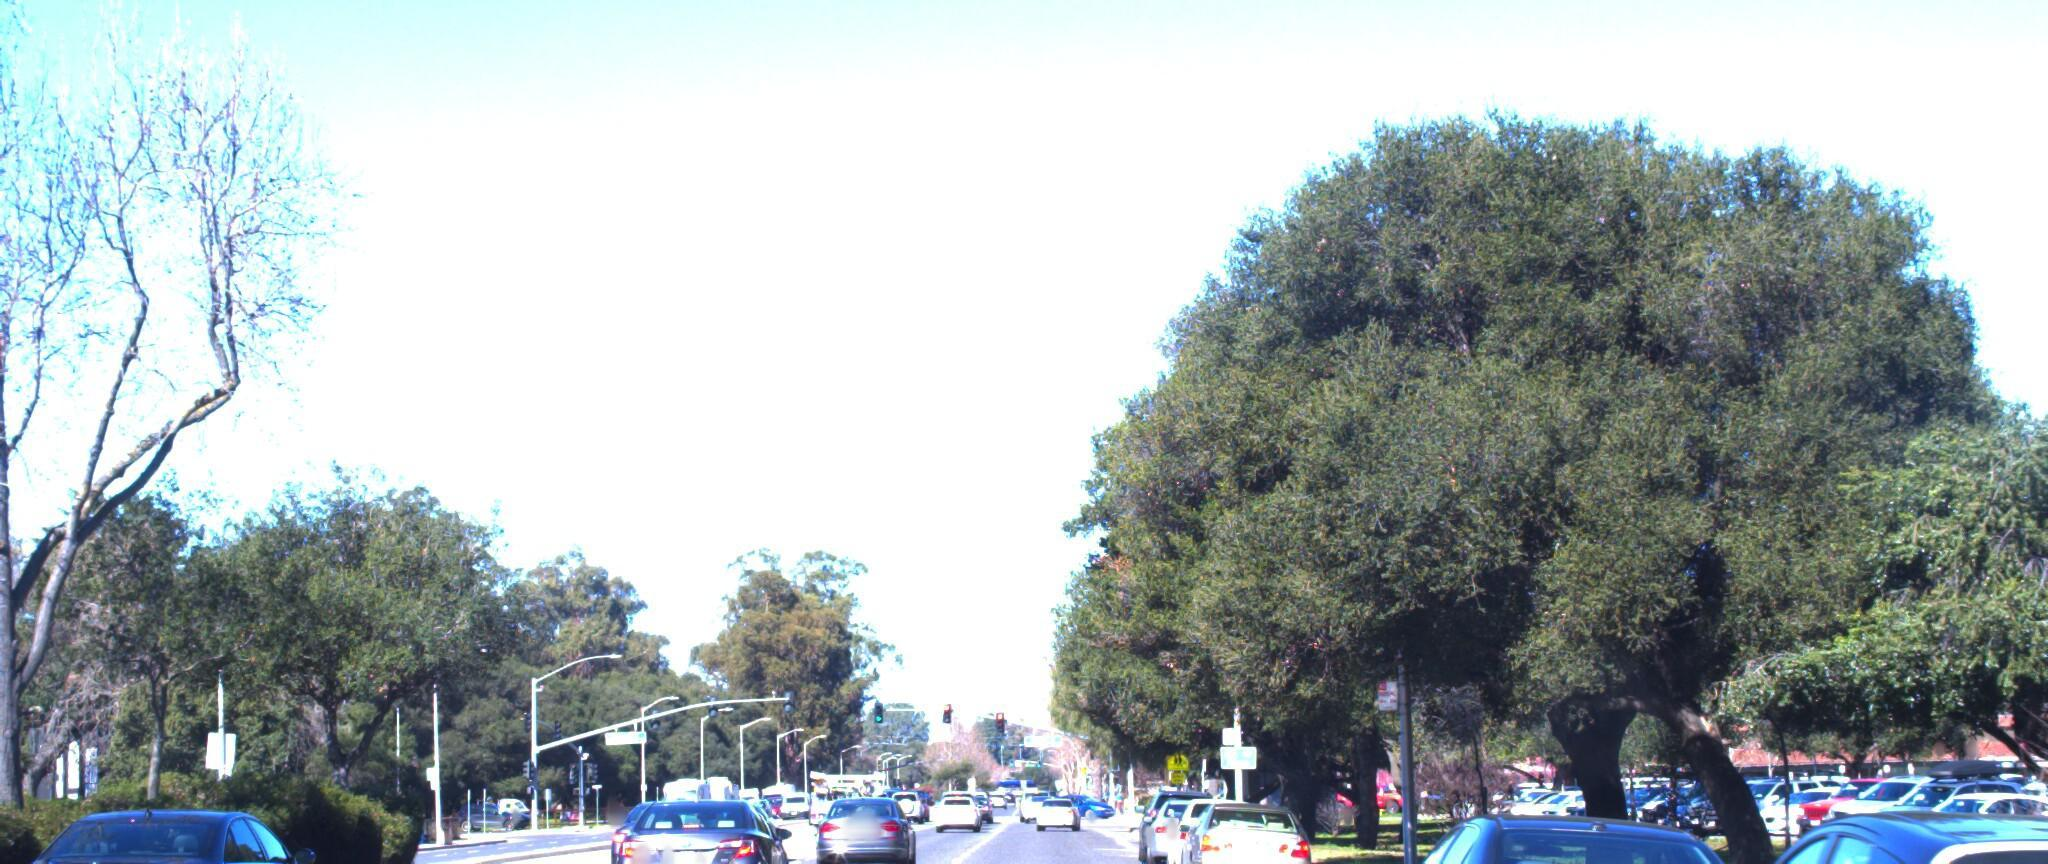car: (1330, 813, 1795, 864), (1644, 808, 2048, 864), (0, 799, 344, 864), (593, 791, 773, 864), (1155, 804, 1307, 864), (795, 795, 905, 864)
